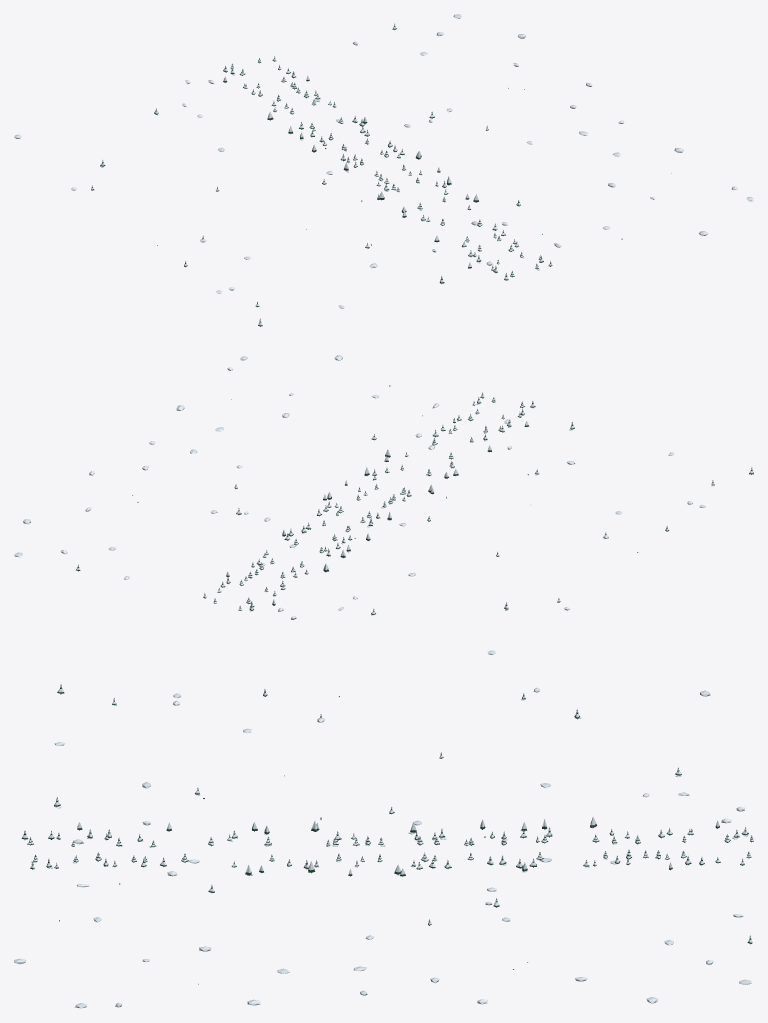
File: Fill_-2_-3.fbx
The picture shows the model from 3 angles, top to bottom: view 1: azimuth 30°, elevation 25°; view 2: azimuth 150°, elevation 25°; view 3: azimuth 270°, elevation 25°; orthographic projection. The views are drawn at different scales.
Visible parts, largest first — view 1: Fill_-2_-3; view 2: Fill_-2_-3; view 3: Fill_-2_-3.
Part boxes in pixels (box(x1,y1,x2,y2)): Fill_-2_-3: box(14, 14, 753, 326); Fill_-2_-3: box(14, 355, 753, 654); Fill_-2_-3: box(14, 683, 753, 1008).
Size of the model in its own units: 59326 by 1340 by 58560.
